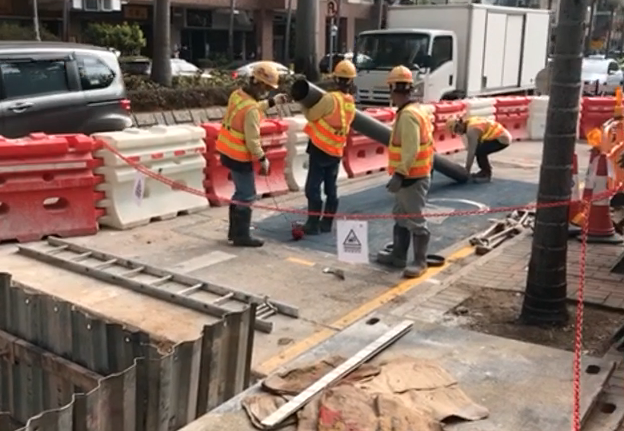Hard Hat: (247, 65, 278, 100), (384, 67, 413, 104), (332, 60, 358, 90), (445, 116, 466, 138)
Person: (376, 68, 432, 278), (220, 65, 279, 247), (298, 61, 357, 234), (444, 115, 513, 184)
Vest: (387, 89, 433, 179), (221, 84, 263, 165), (313, 81, 357, 157), (462, 113, 505, 145)
